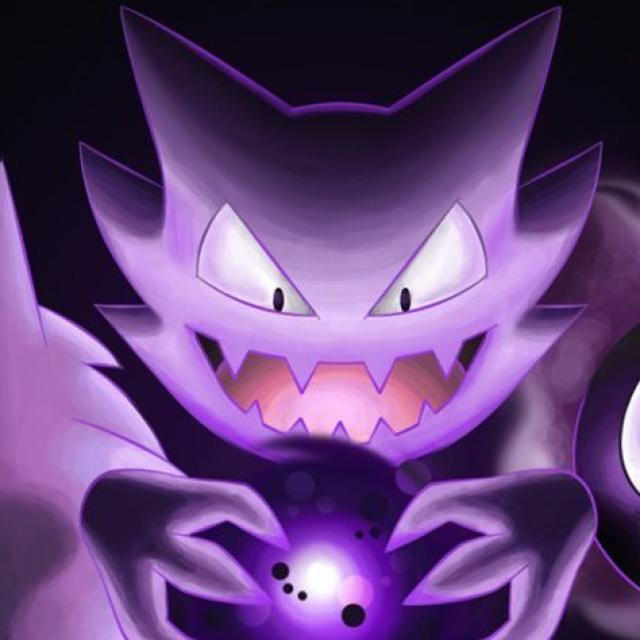Haunter: (75, 6, 611, 640)
